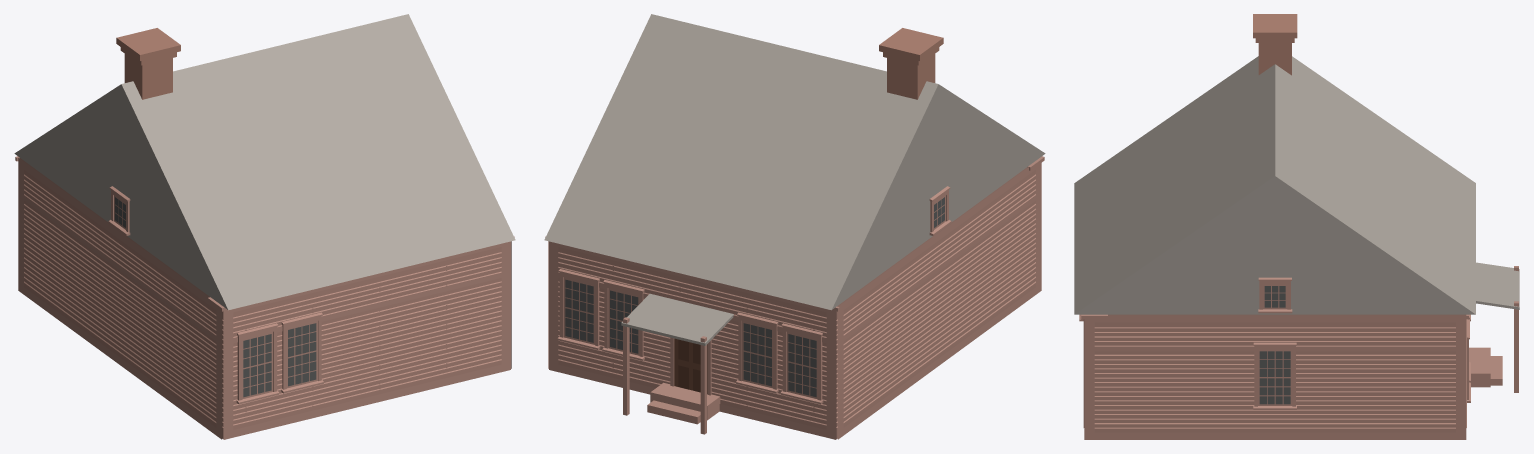
The model's file is recon_1835_blk_washington_lasalle_h1_03__inferred_1835.glb.
The picture shows the model from 3 angles, left to right: view 1: azimuth 30°, elevation 25°; view 2: azimuth 150°, elevation 25°; view 3: azimuth 270°, elevation 25°; orthographic projection. The views are drawn at different scales.
Visible parts, largest first — view 1: recon_1835_blk_washington_lasalle_h1_03__inferred_1835; view 2: recon_1835_blk_washington_lasalle_h1_03__inferred_1835; view 3: recon_1835_blk_washington_lasalle_h1_03__inferred_1835.
Part boxes in pixels (x1=…): recon_1835_blk_washington_lasalle_h1_03__inferred_1835: x1=14, y1=14, x2=515, y2=439; recon_1835_blk_washington_lasalle_h1_03__inferred_1835: x1=544, y1=14, x2=1045, y2=439; recon_1835_blk_washington_lasalle_h1_03__inferred_1835: x1=1074, y1=14, x2=1519, y2=439.
Bounding box in the file's own units: 8.08 × 8.28 × 11.24.
